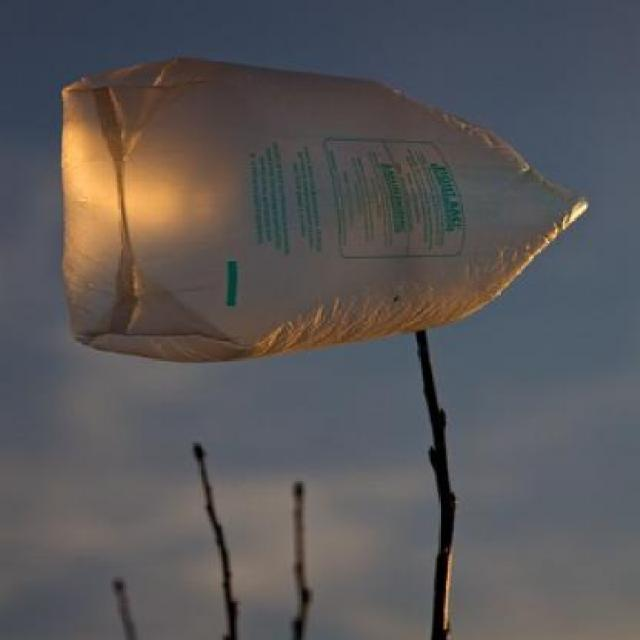plastic bag: (54, 52, 588, 365)
